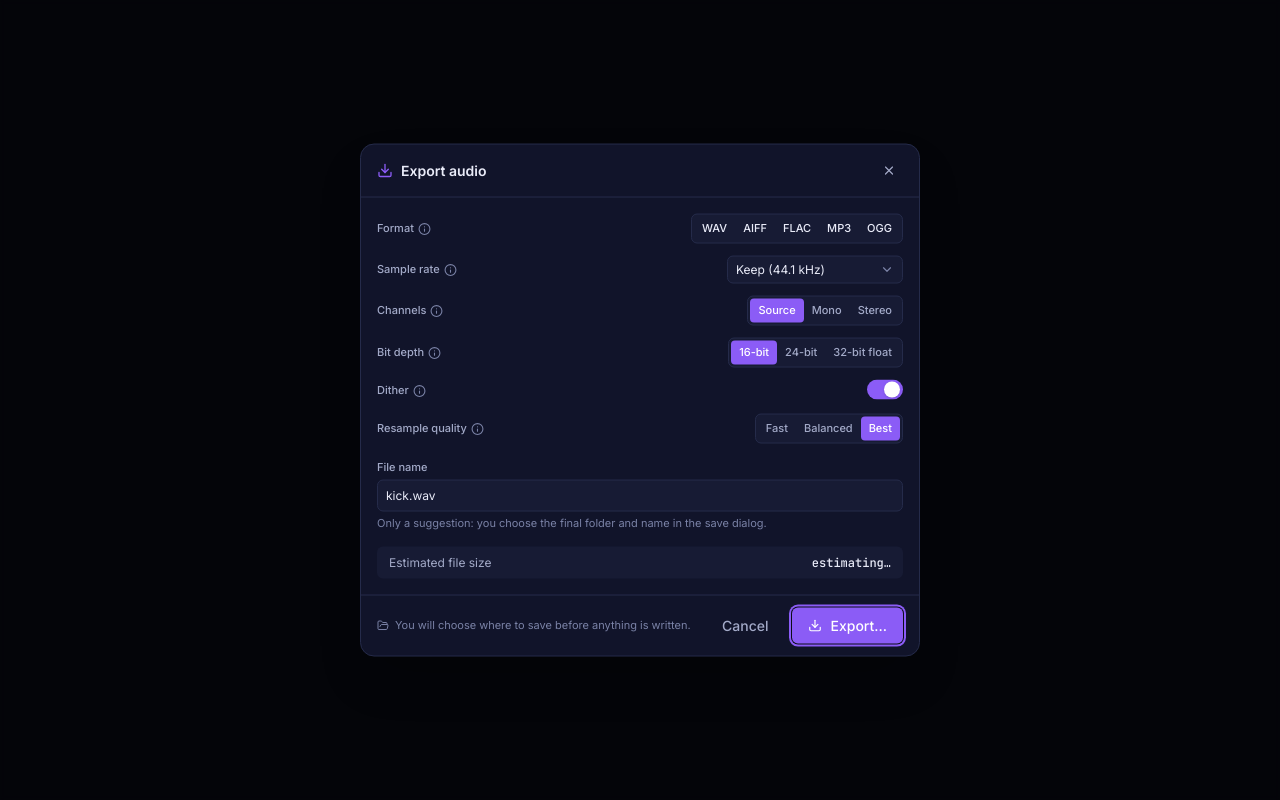
Test: ExportDialog › error -> shows the translated error code and detail
What coordinates should you click on to do the following:
click the button "Export…"
I would click on:
 (848, 626)
Its box is [792,608,903,644].
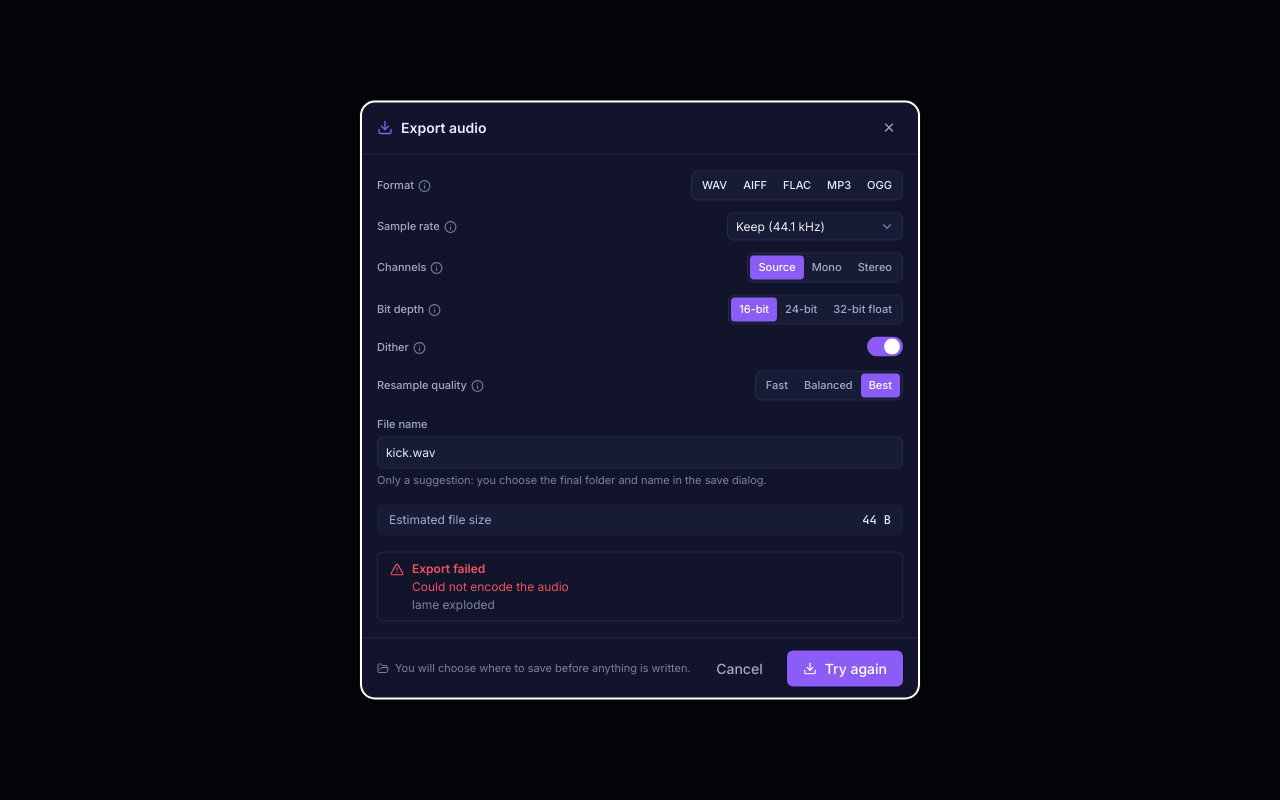
Expected: the button "Try again" is enabled, [787,650,903,686]
Expected: the text "Export failed" shows "lame exploded", [412,596,495,612]
